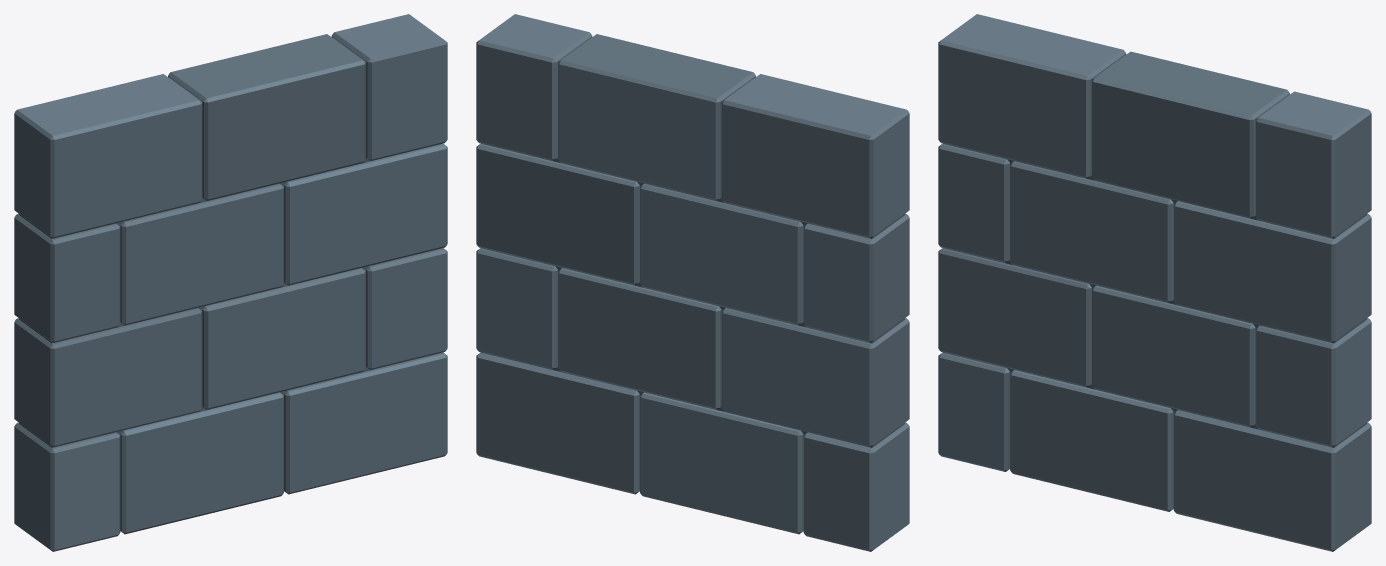
The model's file is A01_Wall_Solid_2m.fbx.
The picture shows the model from 3 angles, left to right: view 1: azimuth 30°, elevation 25°; view 2: azimuth 150°, elevation 25°; view 3: azimuth 330°, elevation 25°; orthographic projection.
Parts seen in each view (by area): view 1: A01_Wall_Solid_2m; view 2: A01_Wall_Solid_2m; view 3: A01_Wall_Solid_2m.
Boxes of the visible parts, box(x1,y1,x2,y2) form: A01_Wall_Solid_2m: box(14, 14, 447, 551); A01_Wall_Solid_2m: box(476, 14, 909, 551); A01_Wall_Solid_2m: box(938, 14, 1371, 551).
Bounding box in the file's own units: 1.99 × 1.99 × 0.34.
Materials: 1 (1 with a texture image).
